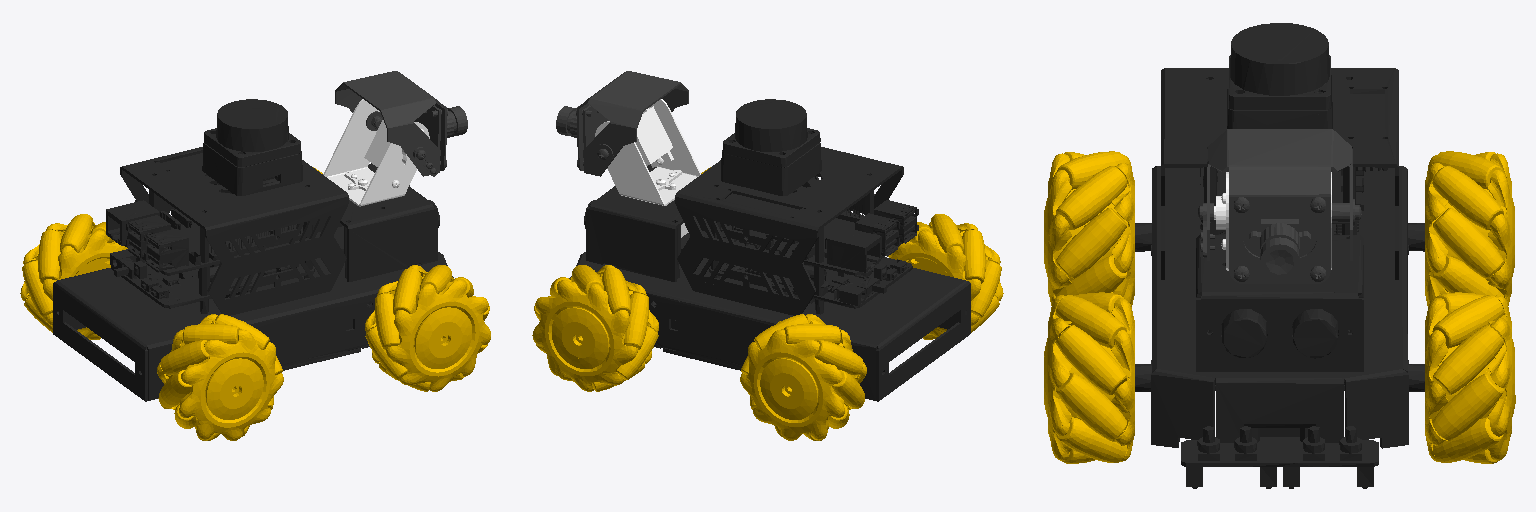
URDF robot description (SUPERVISOR):
<?xml version="1.0"?>
<robot name="SUPERVISOR">
  <webots>
    <plugin type="raspbot_rl_env.rl_supervisor.WebotsSupervisorDriver" />
  </webots>
  <link name="base_link">
    <inertial>
      <origin
        xyz="0.013209067968915 0.000305835286849597 0.034565647785585"
        rpy="0 0 0" />
      <mass
        value="0.315736522899678" />
      <inertia
        ixx="0.000126930677782624"
        ixy="-1.93570093947537E-07"
        ixz="-3.2159760519397E-08"
        iyy="0.000217028578454845"
        iyz="3.16386759318505E-07"
        izz="0.000309637617387382" />
    </inertial>
    <visual>
      <origin
        xyz="0 0 0"
        rpy="0 0 0" />
      <geometry>
        <mesh
          filename="package://raspbotv2_bringup/meshes/base_Link.stl" />
      </geometry>
      <material
        name="">
        <color
          rgba="0.203921568627451 0.203921568627451 0.203921568627451 1" />
      </material>
    </visual>
    <collision>
      <origin xyz="0 0 0.06" rpy="1.885625 1.570791 -2.826762"/>
      <geometry>
        <box size="0.11 0.19 0.09"/>
      </geometry>
    </collision>
  </link>
  <joint name="arm1_Joint" type="revolute">
    <parent link="base_link"/>
    <child link="arm1_Link"/>
    <axis xyz="0 0 1"/>
    <limit effort="100" lower="-1.57" upper="1.57" velocity="1"/>
    <origin xyz="0.058 0 0.0575" rpy="0 0 0"/>
  </joint>
  <link name="arm1_Link">
    <inertial>
      <origin
        xyz="0.0068364 -0.0056586 0.010679"
        rpy="0 0 0" />
      <mass
        value="0.018576" />
      <inertia
        ixx="2.313E-06"
        ixy="-1.4638E-09"
        ixz="-2.6902E-07"
        iyy="1.4144E-06"
        iyz="-2.5737E-08"
        izz="1.7679E-06" />
    </inertial>
    <visual>
      <origin
        xyz="0 0 0"
        rpy="0 0 0" />
      <geometry>
        <mesh
          filename="package://raspbotv2_bringup/meshes/arm1_Link.stl" />
      </geometry>
      <material
        name="">
        <color
          rgba="1 1 1 1" />
      </material>
    </visual>
  </link>
  <joint name="arm2_Joint" type="revolute">
    <parent link="arm1_Link"/>
    <child link="arm2_Link"/>
    <axis xyz="0 -1 0"/>
    <limit effort="100" lower="-0.349" upper="1.57" velocity="1"/>
    <origin xyz="0.016864 -0.01805 0.031459" rpy="0 0 0"/>
  </joint>
  <link name="arm2_Link">
    <inertial>
      <origin
        xyz="0.0135675940851436 0.0188776198697847 0.00259174889479669"
        rpy="0 0 0" />
      <mass
        value="0.0133313425891697" />
      <inertia
        ixx="1.97424244741481E-06"
        ixy="2.11903184025424E-09"
        ixz="2.61235056695239E-07"
        iyy="1.52500945654191E-06"
        iyz="4.39036974632E-09"
        izz="1.98147244330846E-06" />
    </inertial>
    <visual>
      <origin
        xyz="0 0 0"
        rpy="0 0 0" />
      <geometry>
        <mesh
          filename="package://raspbotv2_bringup/meshes/arm2_Link.stl" />
      </geometry>
      <material
        name="">
        <color
          rgba="0.298039215686275 0.298039215686275 0.298039215686275 1" />
      </material>
    </visual>
  </link>
  <joint name="r2_Joint" type="continuous">
    <parent link="base_link"/>
    <child link="r2_Link"/>
    <axis xyz="0 -1 0"/>
    <limit effort="10000" velocity="10"/>
    <origin xyz="-0.0606 -0.066275 0.01625" rpy="0 0 0"/>
  </joint>
  <link name="r2_Link">
    <inertial>
      <origin
        xyz="7.74810646891888E-08 -0.00115093470192544 2.52953823443036E-08"
        rpy="0 0 0" />
      <mass
        value="0.0621175854362522" />
      <inertia
        ixx="1.60211070245519E-05"
        ixy="-5.45644401801277E-12"
        ixz="3.22370881515308E-11"
        iyy="2.57690598424951E-05"
        iyz="3.70605115609868E-11"
        izz="1.60210484479826E-05" />
    </inertial>
    <visual>
      <origin
        xyz="0 0 0"
        rpy="0 0 0" />
      <geometry>
        <mesh
          filename="package://raspbotv2_bringup/meshes/r2_Link.stl" />
      </geometry>
      <material
        name="">
        <color
          rgba="0.968627450980392 0.76078431372549 0 1" />
      </material>
    </visual>
    <collision>
      <origin xyz="0 0 0" rpy="1.885625 1.570791 -2.826762"/>
      <geometry>
        <cylinder radius="0.029" length="0.03"/>
      </geometry>
    </collision>
  </link>
  <joint name="r1_Joint" type="continuous">
    <parent link="base_link"/>
    <child link="r1_Link"/>
    <axis xyz="0 -1 0"/>
    <limit effort="10000" velocity="10"/>
    <origin xyz="0.0566 -0.066275 0.01625" rpy="0 0 0"/>
  </joint>
  <link name="r1_Link">
    <inertial>
      <origin
        xyz="7.51903645040963E-08 -0.0011508831521476 -1.72979823520603E-08"
        rpy="0 0 0" />
      <mass
        value="0.0621184289730623" />
      <inertia
        ixx="1.60212009784984E-05"
        ixy="-2.99625133669287E-11"
        ixz="-2.40881432800737E-11"
        iyy="2.57692344855104E-05"
        iyz="-4.52750714768276E-11"
        izz="1.60213367542239E-05" />
    </inertial>
    <visual>
      <origin
        xyz="0 0 0"
        rpy="0 0 0" />
      <geometry>
        <mesh
          filename="package://raspbotv2_bringup/meshes/r1_Link.stl" />
      </geometry>
      <material
        name="">
        <color
          rgba="0.968627450980392 0.76078431372549 0 1" />
      </material>
    </visual>
    <collision>
      <origin xyz="0 0 0" rpy="1.885625 1.570791 -2.826762"/>
      <geometry>
        <cylinder radius="0.029" length="0.03"/>
      </geometry>
    </collision>
  </link>
  <joint name="l2_Joint" type="continuous">
    <parent link="base_link"/>
    <child link="l2_Link"/>
    <axis xyz="0 1 0"/>
    <limit effort="10000" velocity="10"/>
    <origin xyz="-0.0606 0.066275 0.01625" rpy="0 0 0"/>
  </joint>
  <link name="l2_Link">
    <inertial>
      <origin
        xyz="2.28035580973618E-08 0.00115089560460579 -8.67083690958559E-09"
        rpy="0 0 0" />
      <mass
        value="0.0621182459482163" />
      <inertia
        ixx="1.60212407380175E-05"
        ixy="-3.41279855165358E-12"
        ixz="5.68778362057485E-11"
        iyy="2.57691020675976E-05"
        iyz="-2.19119695751461E-11"
        izz="1.60211497078259E-05" />
    </inertial>
    <visual>
      <origin
        xyz="0 0 0"
        rpy="0 0 0" />
      <geometry>
        <mesh
          filename="package://raspbotv2_bringup/meshes/l2_Link.stl" />
      </geometry>
      <material
        name="">
        <color
          rgba="0.968627450980392 0.76078431372549 0 1" />
      </material>
    </visual>
    <collision>
      <origin xyz="0 0 0" rpy="1.885625 1.570791 -2.826762"/>
      <geometry>
        <cylinder radius="0.029" length="0.03"/>
      </geometry>
    </collision>
  </link>
  <joint name="l1_Joint" type="continuous">
    <parent link="base_link"/>
    <child link="l1_Link"/>
    <axis xyz="0 1 0"/>
    <limit effort="10000" velocity="10"/>
    <origin xyz="0.0566 0.066275 0.01625" rpy="0 0 0"/>
  </joint>
  <link name="l1_Link">
    <inertial>
      <origin
        xyz="1.78446179673053E-08 0.00115093443907621 -8.02931999499545E-08"
        rpy="0 0 0" />
      <mass
        value="0.0621175903492224" />
      <inertia
        ixx="1.60210369337653E-05"
        ixy="3.43785525584636E-11"
        ixz="-9.02615043669717E-12"
        iyy="2.5769061705676E-05"
        iyz="1.3506611805838E-11"
        izz="1.60211213285766E-05" />
    </inertial>
    <visual>
      <origin
        xyz="0 0 0"
        rpy="0 0 0" />
      <geometry>
        <mesh
          filename="package://raspbotv2_bringup/meshes/l1_Link.stl" />
      </geometry>
      <material
        name="">
        <color
          rgba="0.968627450980392 0.76078431372549 0 1" />
      </material>
    </visual>
    <collision>
      <origin xyz="0 0 0" rpy="1.885625 1.570791 -2.826762"/>
      <geometry>
        <cylinder radius="0.029" length="0.03"/>
      </geometry>
    </collision>
  </link>
  <link name="top_lidar">
  </link>
  <joint name="base_link_top_lidar_joint" type="fixed">
    <parent link="base_link"/>
    <child link="top_lidar"/>
    <origin xyz="0 0 0.121" rpy="0 0 0"/>
  </joint>
  <link name="front_camera">
  </link>
  <joint name="base_link_front_camera_joint" type="fixed">
    <parent link="base_link"/>
    <child link="front_camera"/>
    <origin xyz="0.103 0 0.088" rpy="-1.570796 0 -1.570796"/>
  </joint>
  <link name="front_distance_sensor">
  </link>
  <joint name="base_link_front_distance_sensor_joint" type="fixed">
    <parent link="base_link"/>
    <child link="front_distance_sensor"/>
    <origin xyz="0.09 0 0.05" rpy="0 0 0"/>
  </joint>
  <link name="magnetometer">
  </link>
  <joint name="base_link_magnetometer_joint" type="fixed">
    <parent link="base_link"/>
    <child link="magnetometer"/>
    <origin xyz="0 0 0.1" rpy="0 0 0"/>
  </joint>
  <link name="gyroscope">
  </link>
  <joint name="base_link_gyroscope_joint" type="fixed">
    <parent link="base_link"/>
    <child link="gyroscope"/>
    <origin xyz="0 0 0.1" rpy="0 0 0"/>
  </joint>
  <link name="accelerometer">
  </link>
  <joint name="base_link_accelerometer_joint" type="fixed">
    <parent link="base_link"/>
    <child link="accelerometer"/>
    <origin xyz="0 0 0.1" rpy="0 0 0"/>
  </joint>
  <joint name="base_footprint_joint" type="fixed">
    <parent link="base_link"/>
    <child link="base_footprint"/>
    <origin xyz="0 0 0" rpy="0 0 0"/>
</joint>   
<link name="base_footprint">
</link>
</robot>

--- Render facts (derived) ---
3 views of the same robot in one strip: view 1: azimuth 30°, elevation 25°; view 2: azimuth 150°, elevation 25°; view 3: azimuth 270°, elevation 25° (orthographic).
Model SUPERVISOR with 14 links and 13 joints (2 revolute, 4 continuous, 7 fixed), rooted at base_link, posed all joints at 0.
Visible links, largest first — view 1: base_link, r2_Link, r1_Link, arm2_Link, l2_Link, arm1_Link; view 2: base_link, l2_Link, l1_Link, arm2_Link, r2_Link, arm1_Link; view 3: base_link, arm2_Link, r1_Link, l1_Link, r2_Link, l2_Link, arm1_Link.
Link boxes in pixels (x1,y1,x2,y2): base_link: [53, 99, 453, 401]; r2_Link: [157, 314, 283, 440]; r1_Link: [365, 265, 490, 391]; arm2_Link: [335, 71, 467, 176]; l2_Link: [20, 214, 127, 339]; arm1_Link: [323, 99, 429, 206]; base_link: [569, 99, 970, 401]; l2_Link: [740, 314, 866, 440]; l1_Link: [532, 265, 658, 391]; arm2_Link: [556, 71, 688, 176]; r2_Link: [888, 214, 1003, 339]; arm1_Link: [595, 99, 700, 237]; base_link: [1135, 23, 1424, 488]; arm2_Link: [1198, 129, 1361, 283]; r1_Link: [1044, 292, 1134, 463]; l1_Link: [1425, 292, 1515, 463]; r2_Link: [1044, 151, 1134, 306]; l2_Link: [1425, 151, 1514, 306]; arm1_Link: [1214, 172, 1331, 270].
Size in the robot's own frame: 0.2036 by 0.1659 by 0.132 metres.
Meshes: 7 distinct files referenced, 7 mesh visuals loaded (7 binary STL).